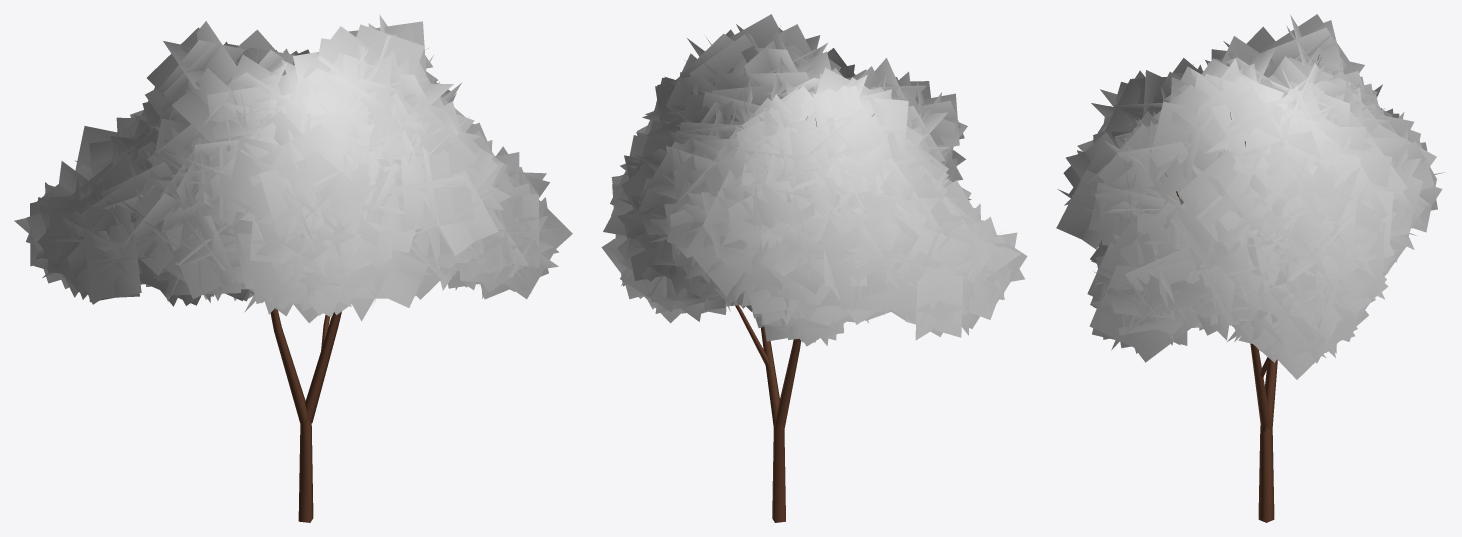
File: T2Tree1.fbx
The picture shows the model from 3 angles, left to right: view 1: azimuth 30°, elevation 25°; view 2: azimuth 150°, elevation 25°; view 3: azimuth 270°, elevation 25°; orthographic projection. The views are drawn at different scales.
Visible parts, largest first — view 1: Leaves_2.1B, Leaves_2.1A, Bark2.1; view 2: Leaves_2.1A, Leaves_2.1B, Bark2.1; view 3: Leaves_2.1A, Leaves_2.1B, Bark2.1.
Boxes of the visible parts, x1,y1,x2,y2 form: Leaves_2.1B: (14,14,558,322); Leaves_2.1A: (26,21,572,314); Bark2.1: (176,48,428,522); Leaves_2.1A: (603,14,1027,346); Leaves_2.1B: (601,24,1020,345); Bark2.1: (735,113,874,522); Leaves_2.1A: (1063,14,1442,362); Leaves_2.1B: (1056,14,1444,379); Bark2.1: (1159,55,1321,522).
Bounding box in the file's own units: 6.12 × 6.53 × 4.93.
